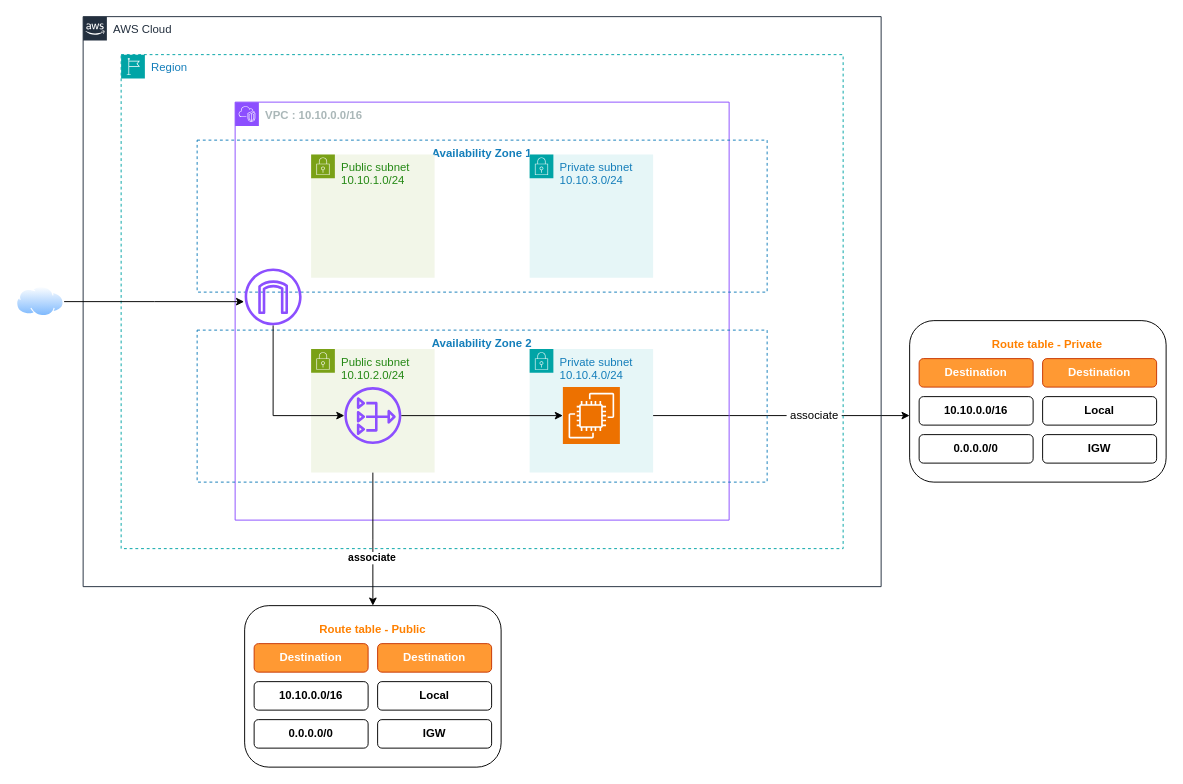
The diagram is 1183 pixels wide and 784 high, and some of its shapes have lost their labels. The shapes that lost their labels are listed below. From the top down, each one's centre as x and y in pixels, then its label:
the point at 272,296: Internet Gateway
the point at 372,415: NAT Gateway
the point at 591,415: Amazon EC2
